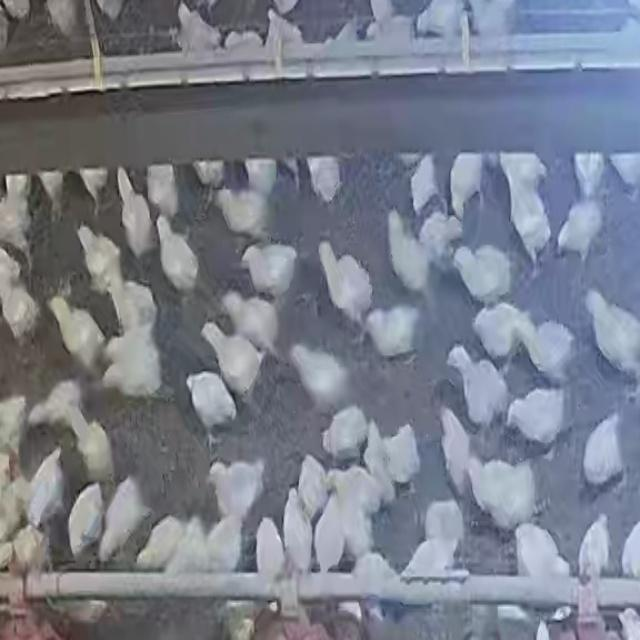chicken: (323, 465, 386, 561), (98, 318, 165, 402), (464, 454, 536, 530), (445, 344, 510, 428), (200, 318, 264, 402), (583, 287, 640, 380), (45, 294, 108, 378), (401, 500, 467, 578), (215, 290, 282, 366), (96, 474, 152, 564), (76, 223, 128, 305), (504, 385, 570, 447), (207, 457, 266, 526), (320, 236, 369, 319), (0, 246, 41, 342), (503, 180, 552, 260), (154, 216, 202, 296), (115, 168, 156, 261), (214, 182, 274, 245), (184, 370, 238, 439), (451, 244, 513, 304), (239, 240, 299, 301), (524, 318, 576, 387), (66, 406, 114, 480), (363, 304, 418, 368), (580, 410, 624, 490), (25, 447, 66, 531), (554, 198, 604, 266), (66, 480, 108, 560), (438, 406, 474, 499), (513, 522, 570, 578), (135, 514, 190, 570), (320, 404, 370, 464), (294, 344, 341, 406), (380, 420, 422, 488), (200, 512, 247, 572), (417, 211, 464, 267), (389, 209, 421, 291), (448, 153, 486, 222), (0, 176, 34, 252), (282, 490, 312, 574), (177, 1, 221, 58), (361, 419, 394, 492), (120, 276, 160, 336), (350, 551, 400, 599), (576, 514, 611, 579), (409, 154, 442, 221), (32, 380, 82, 424), (296, 452, 328, 518), (417, 0, 468, 40), (466, 0, 517, 39), (144, 164, 180, 217), (306, 156, 344, 206), (0, 391, 29, 455), (497, 150, 550, 184), (364, 13, 419, 44), (76, 168, 111, 216), (572, 152, 606, 201), (13, 526, 44, 577), (269, 7, 303, 53), (255, 518, 281, 578), (242, 158, 279, 198), (36, 170, 66, 218), (44, 0, 80, 39), (608, 152, 640, 193), (619, 523, 640, 579), (190, 160, 227, 188)
